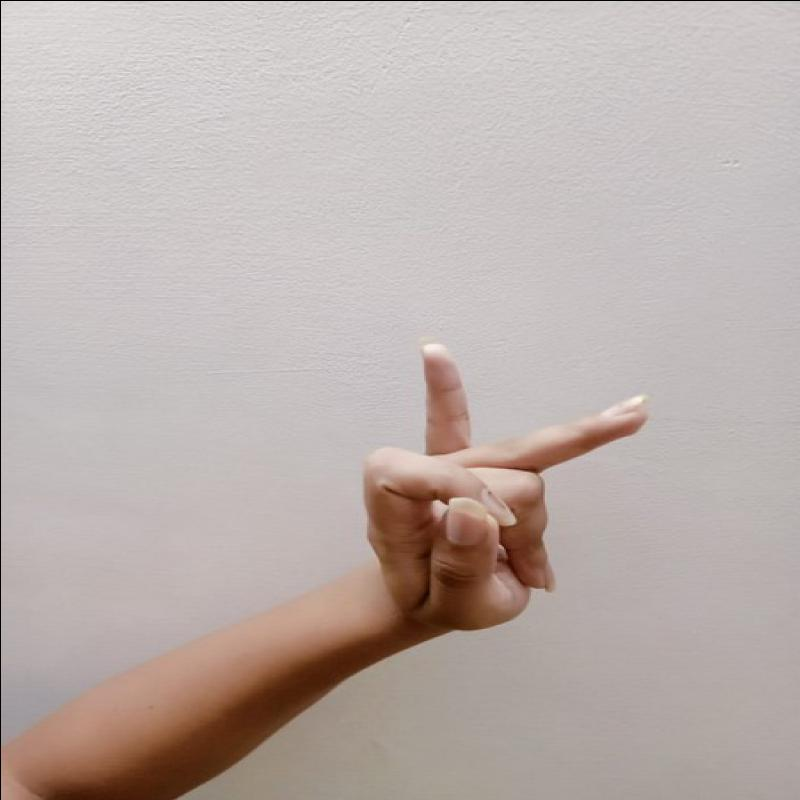Katakam: (341, 301, 674, 670)
